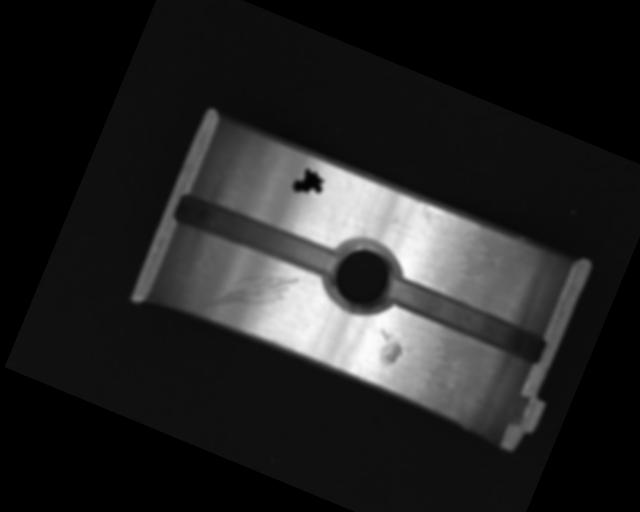blot: (289, 164, 328, 202)
bruise: (370, 327, 409, 367)
gap: (172, 189, 343, 285), (383, 275, 549, 365)
hole: (316, 230, 408, 321)
nick: (202, 249, 299, 340)
